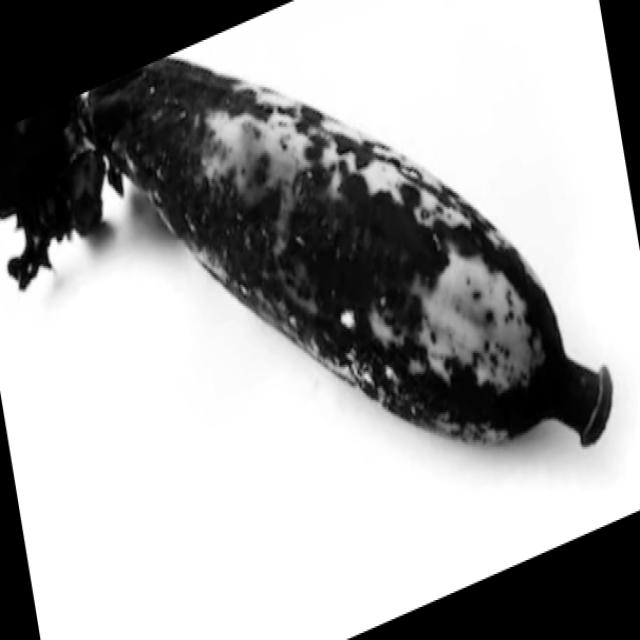Rotten: (3, 0, 612, 482)
